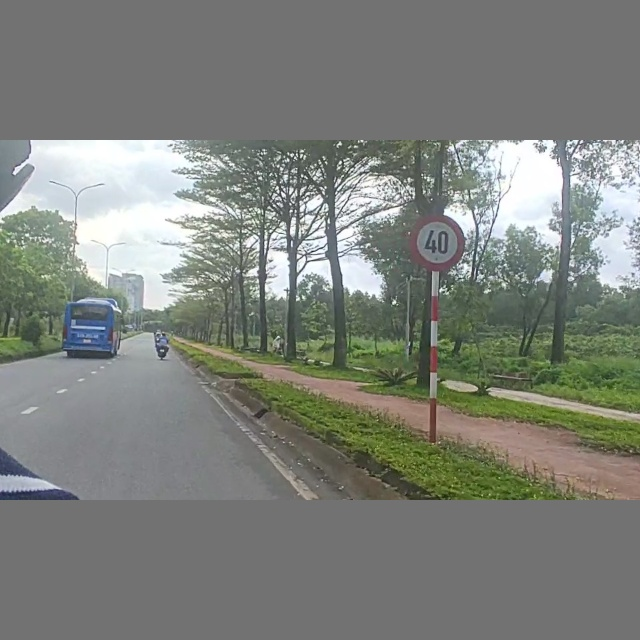P.127*40: (403, 214, 467, 270)
